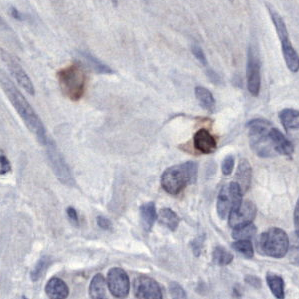Lymphocyte: (192, 126, 219, 155)
